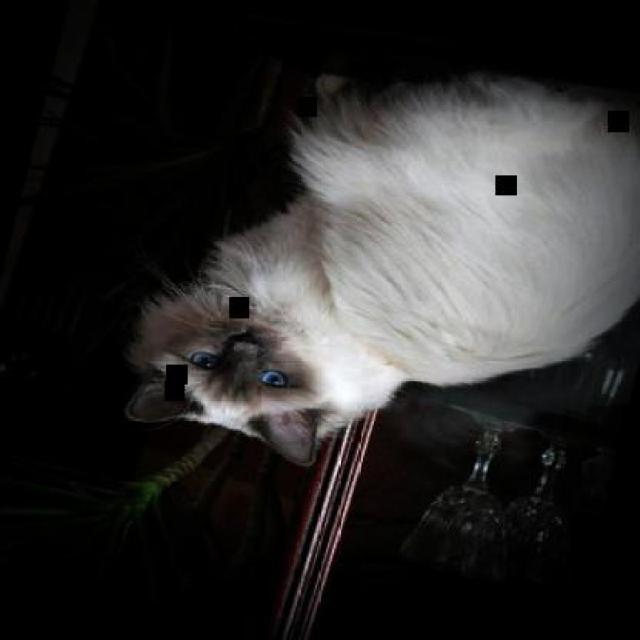cat: (110, 0, 638, 542)
